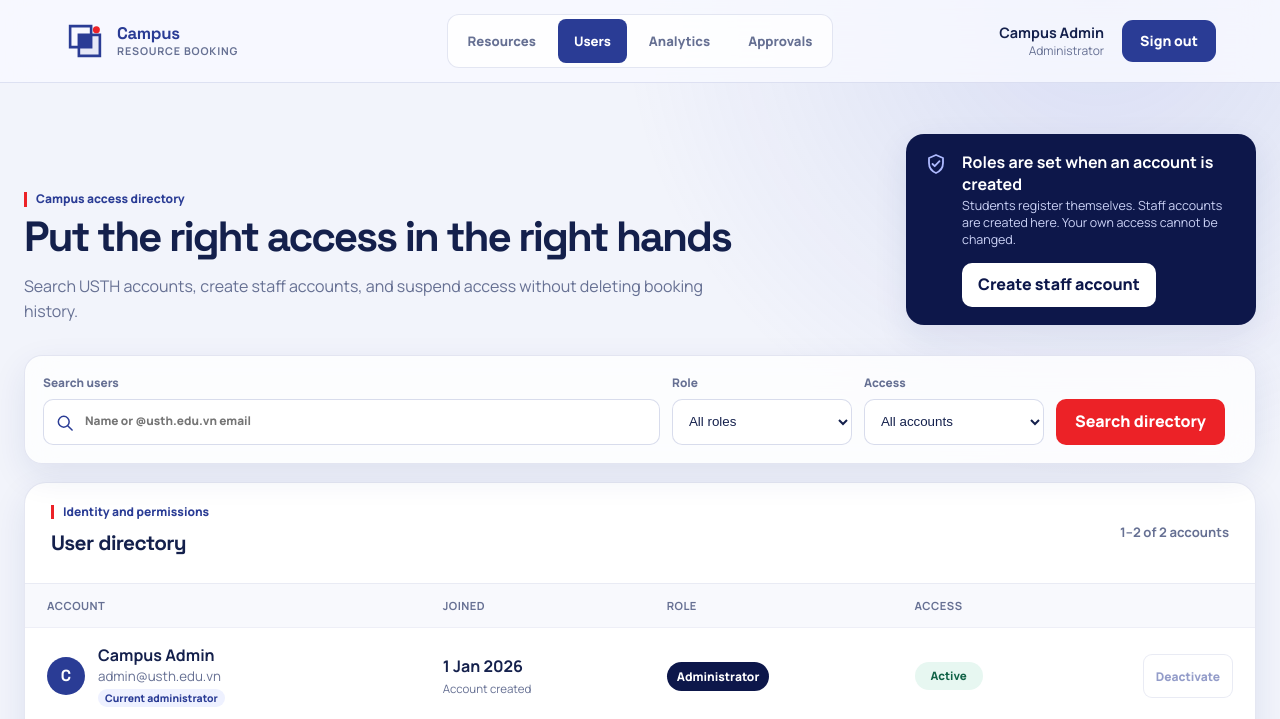
Test: AdminUserManager › keeps the staff form open with the reason when creation fails
The width and height of the screenshot is (1280, 719).
Click the button "Create staff account" at (1059, 285), box [962,263,1156,307]
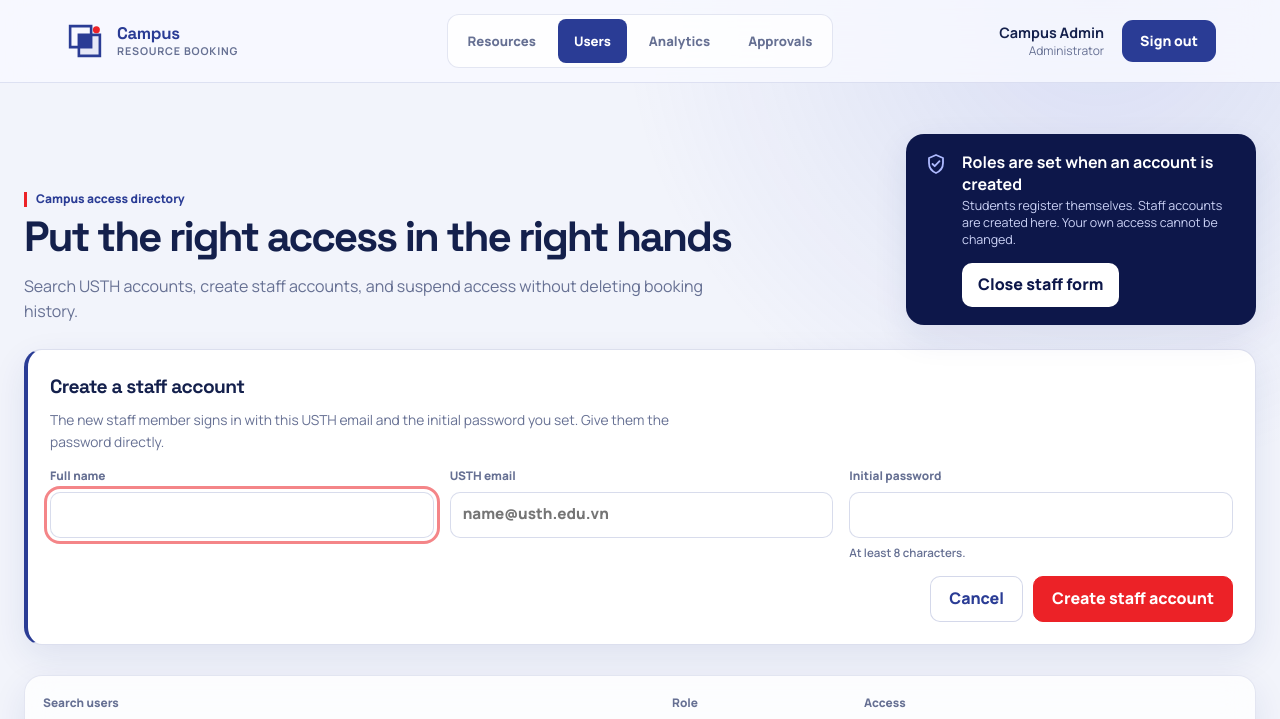
Type "Directory Student" into the field labelled "Full name" at (242, 515), box [50,492,434,538]
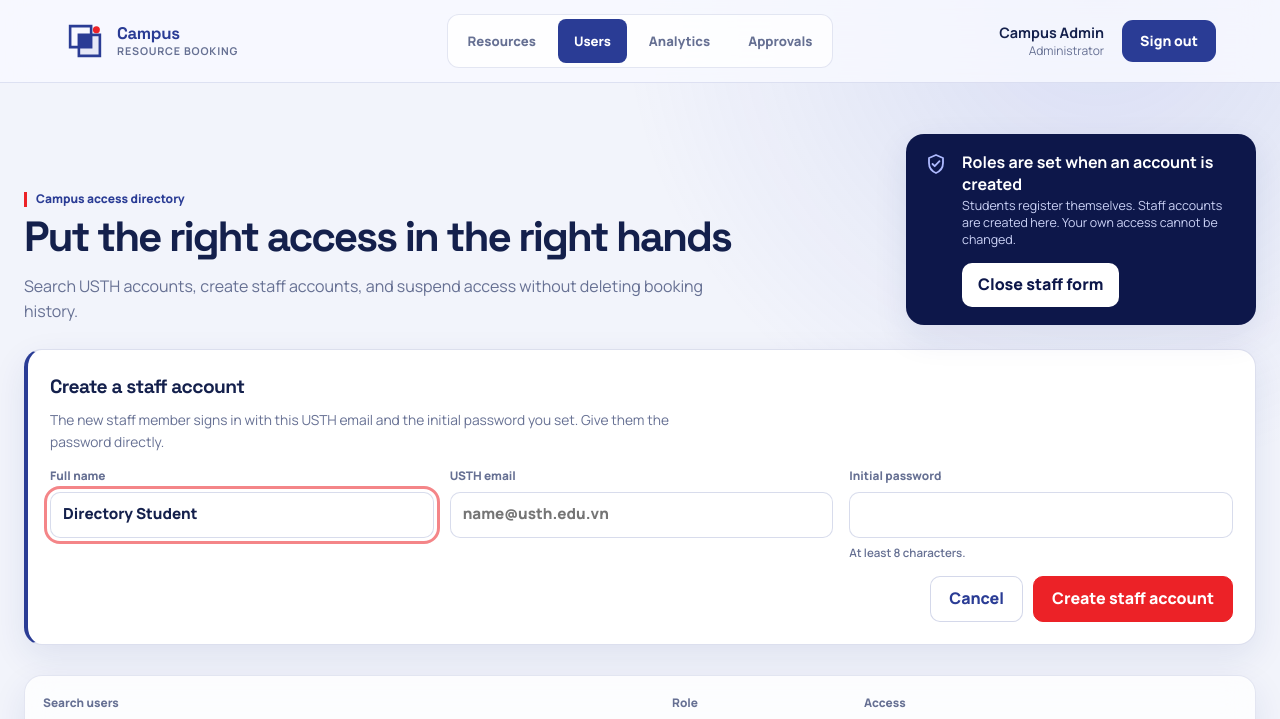
Type "student@usth.edu.vn" into the field labelled "USTH email" at (642, 515), box [450,492,833,538]
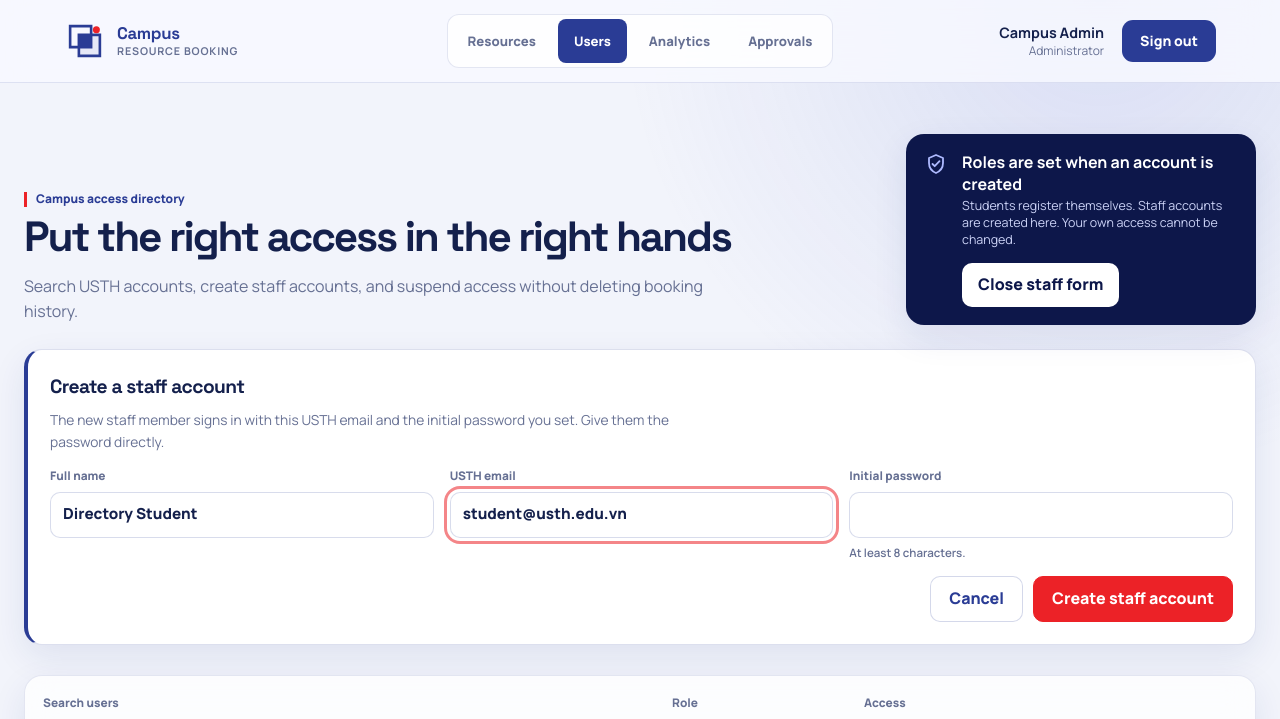
Type "initial-pass" into the password field labelled "Initial password" at (1041, 515), box [849,492,1233,538]
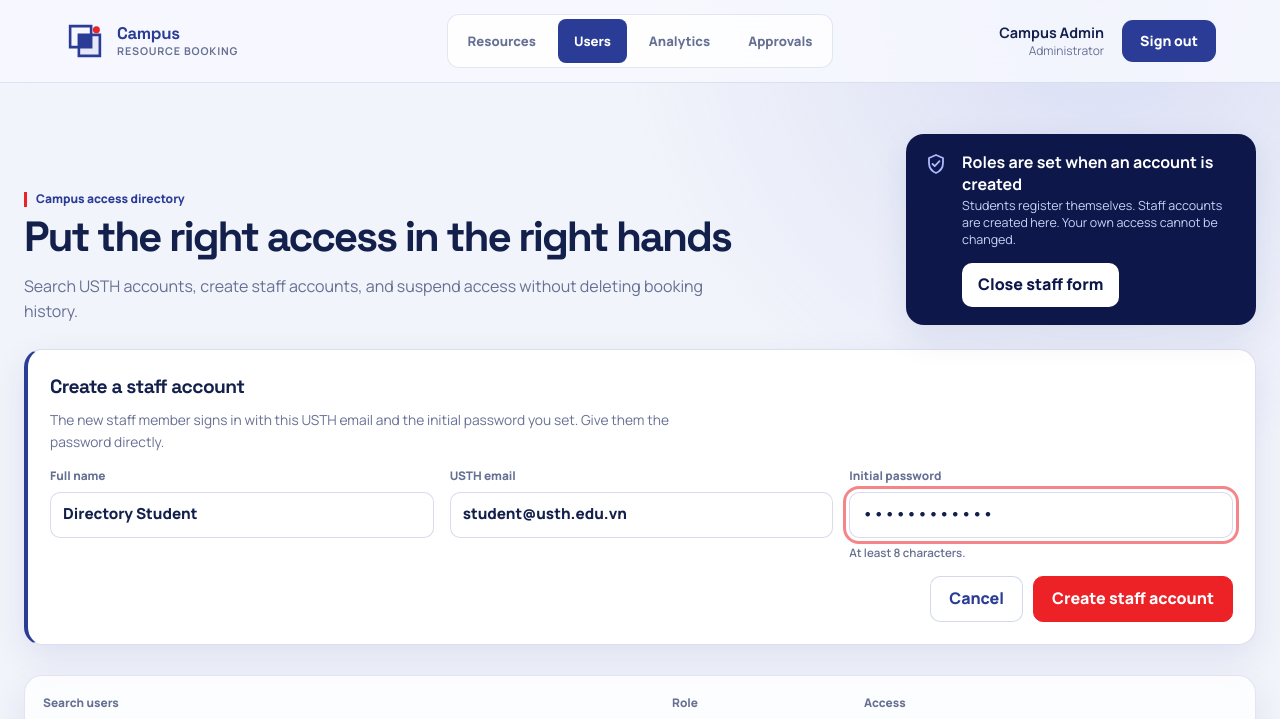
Click the button "Create staff account" at (1133, 599), box [1033,576,1233,622]
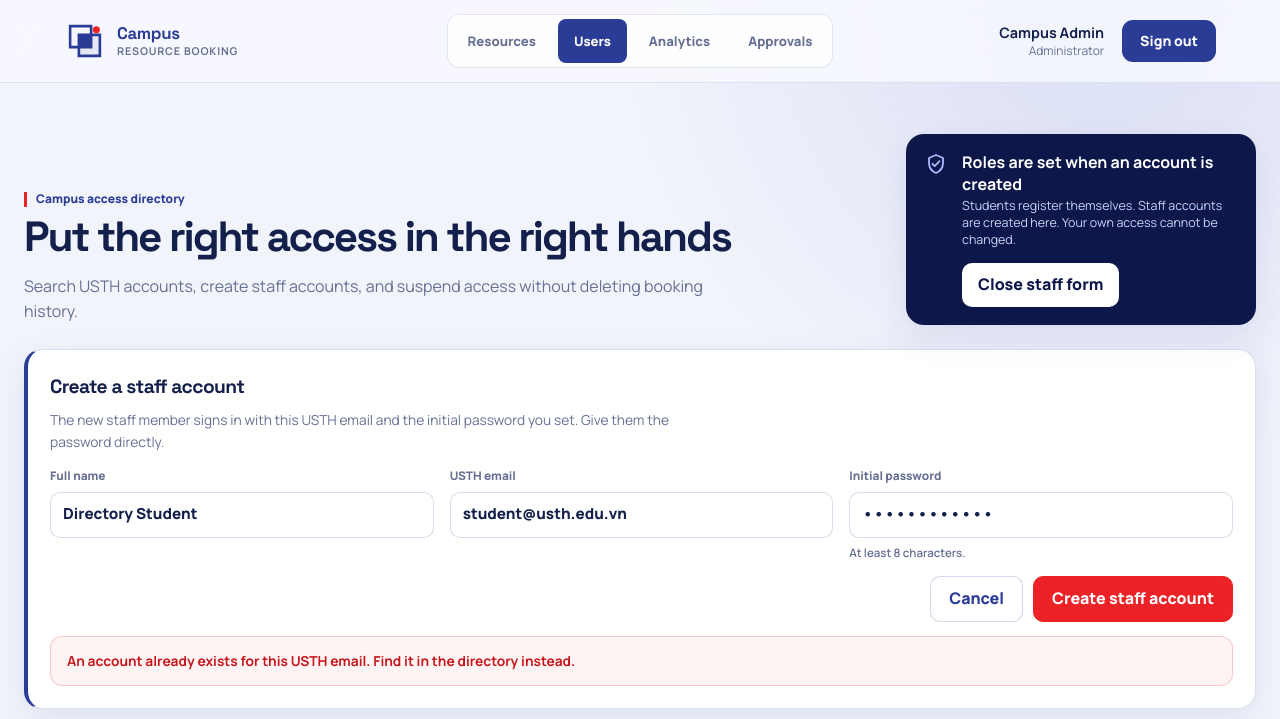
Expected: the message shows "already exists", [67,651,575,670]
